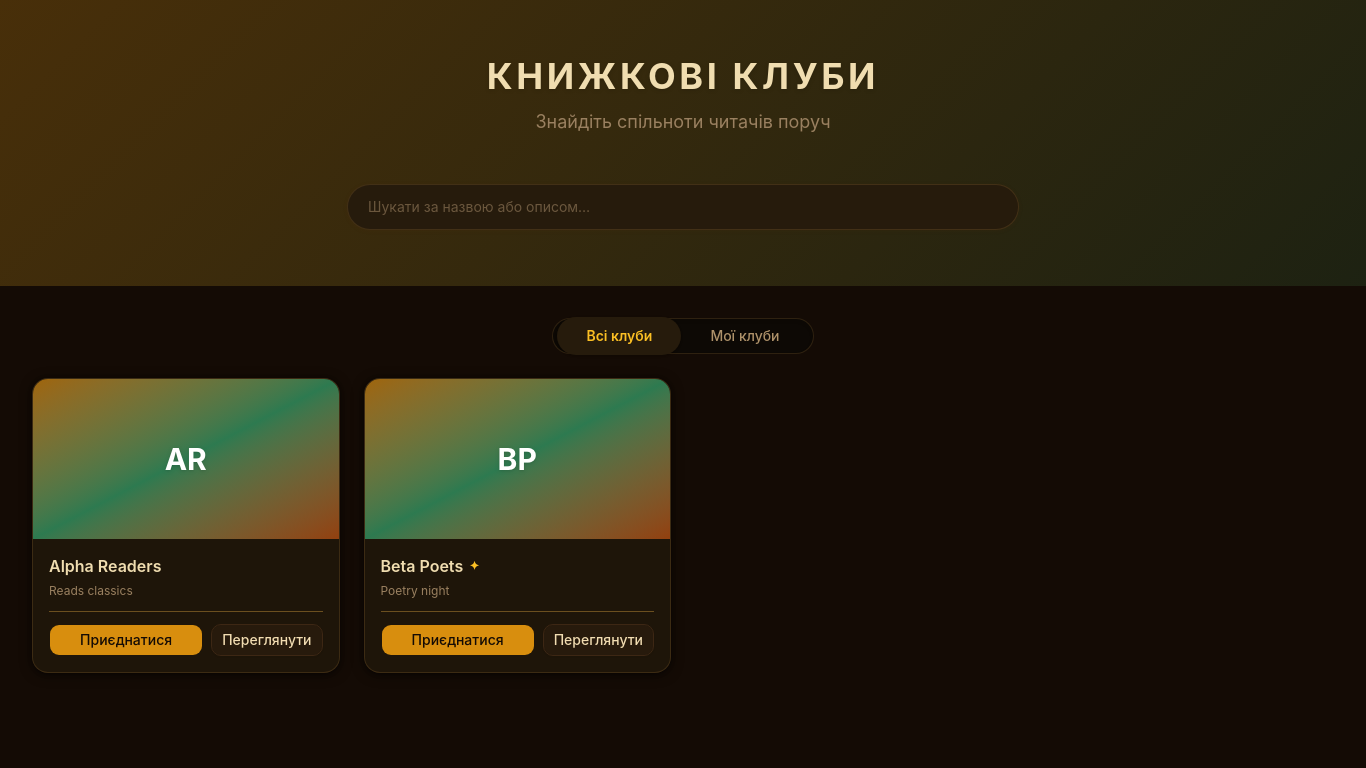
Test: ClubsListClient as member › shows the my-clubs empty state when the member has no clubs
Click the tab "Мої клуби": [745, 336] box [681,317,808,355]
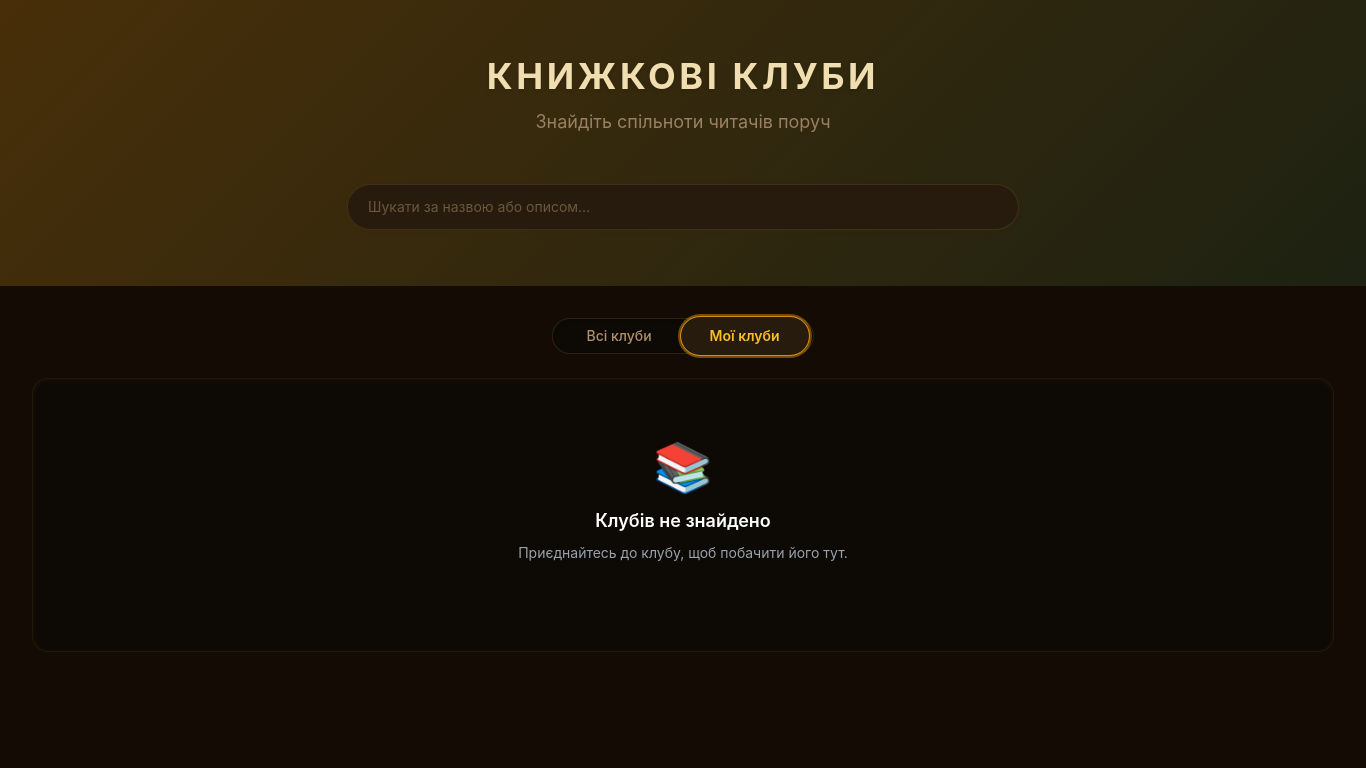
Result: the heading "Клубів не знайдено" is shown at [595,507,771,535]
